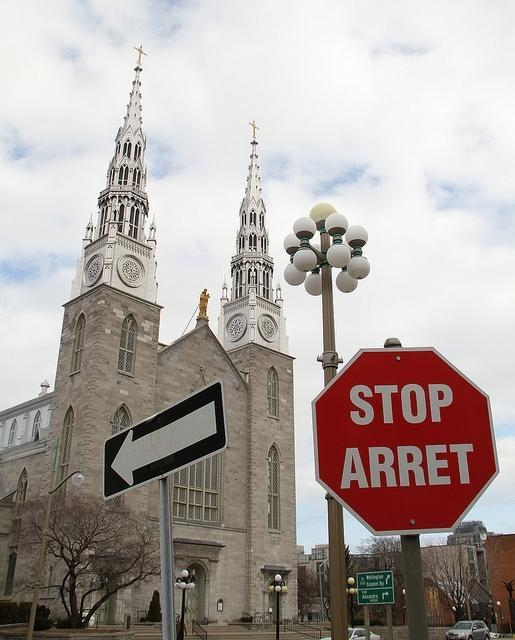car: (446, 619, 491, 640), (318, 628, 382, 640)
